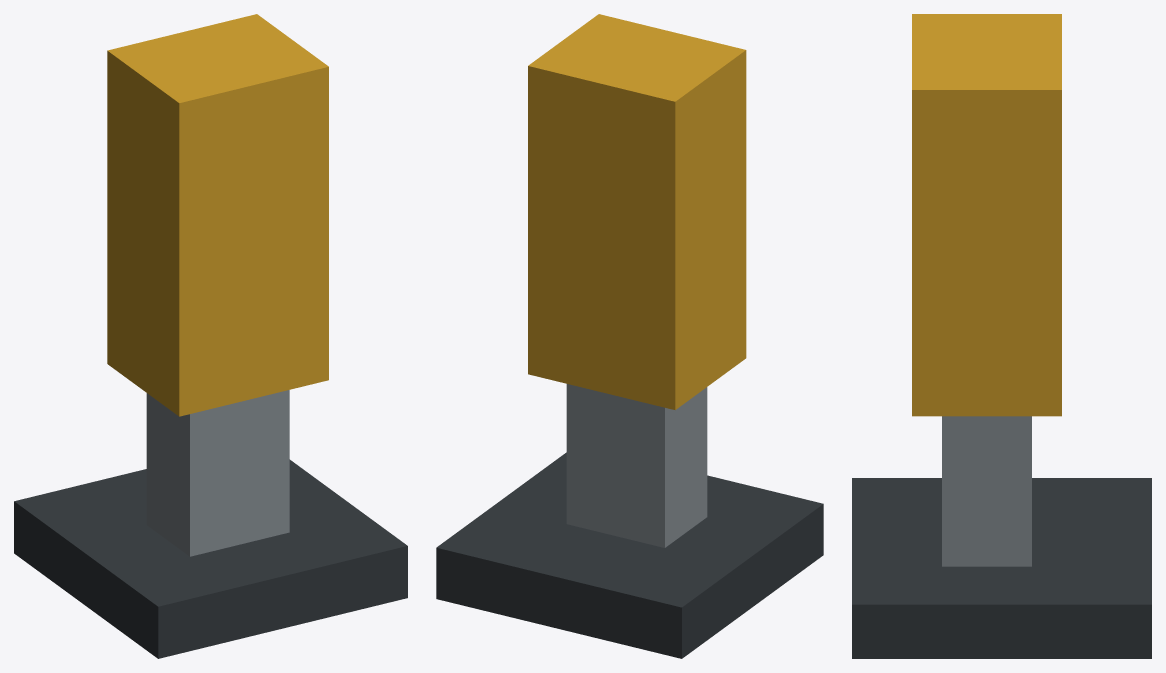
The model's file is tow_truck_stabiliser.glb.
3 renders of one model, left to right at view 1: azimuth 30°, elevation 25°; view 2: azimuth 150°, elevation 25°; view 3: azimuth 270°, elevation 25°, orthographic. The views are drawn at different scales.
Visible parts, largest first — view 1: body:compound; view 2: body:compound; view 3: body:compound.
Part boxes in pixels (bbox=[...]): body:compound: bbox=[14, 14, 407, 658]; body:compound: bbox=[436, 14, 823, 658]; body:compound: bbox=[852, 14, 1151, 658].
Bounding box in the file's own units: 0.3125 × 0.625 × 0.3125.
